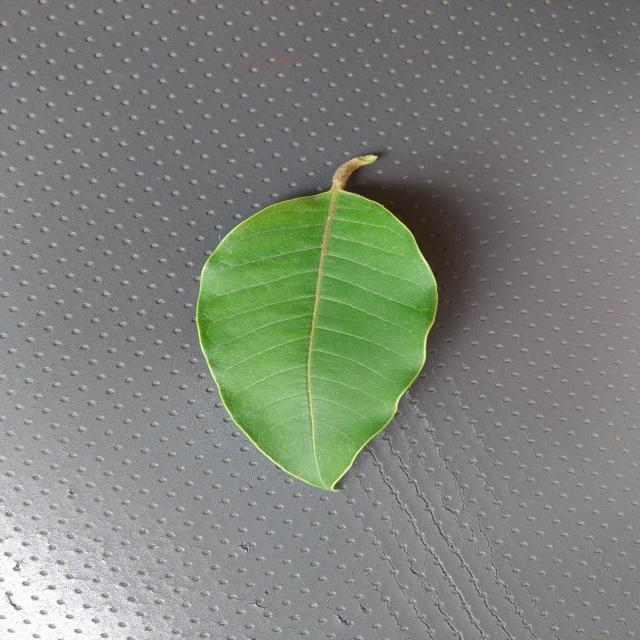coffee: (198, 155, 438, 490)
